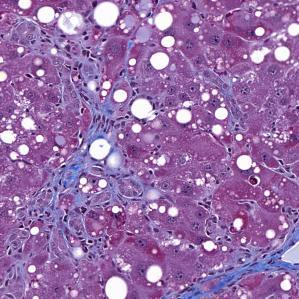fibrosis: (41, 159, 147, 226), (64, 41, 134, 117), (188, 245, 280, 288)
